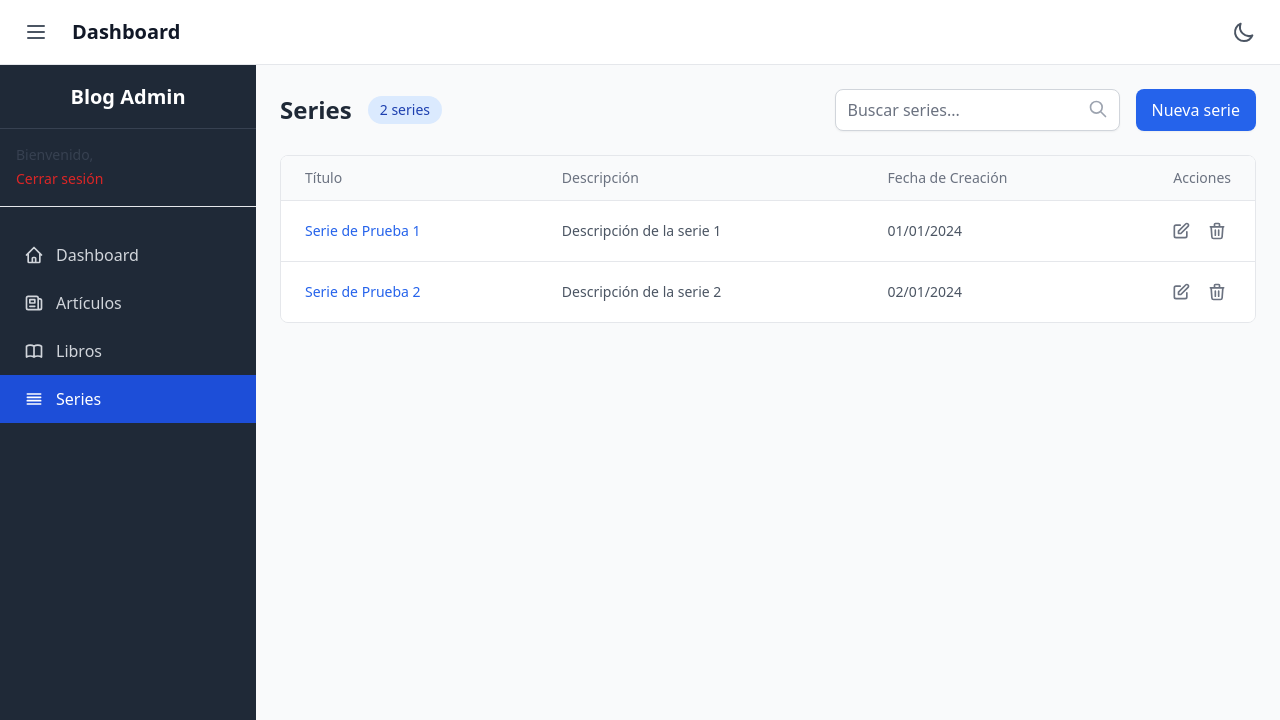
Scenario: Gestión de Series › puede eliminar una serie
Click the button named "Eliminar" in the row of "Serie de Prueba 1" at (1217, 231), box [1203, 217, 1231, 245]
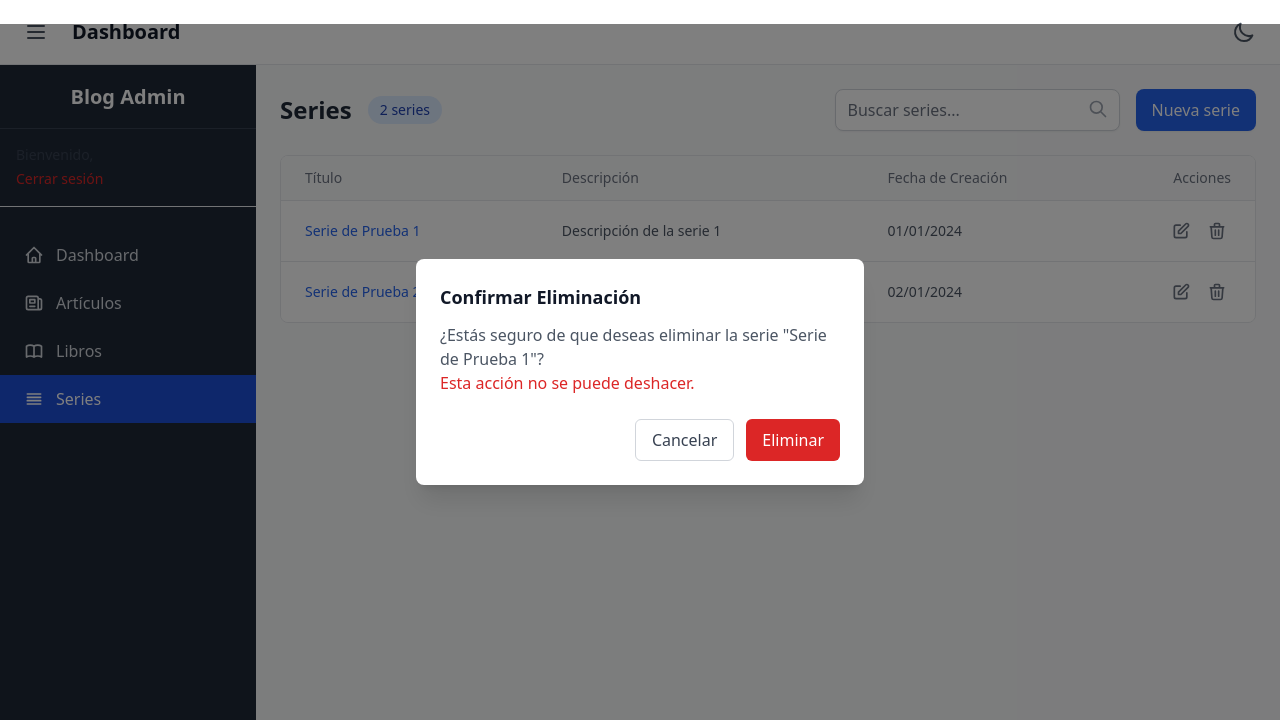
Click the button "Eliminar" at (793, 440), box [746, 419, 840, 461]
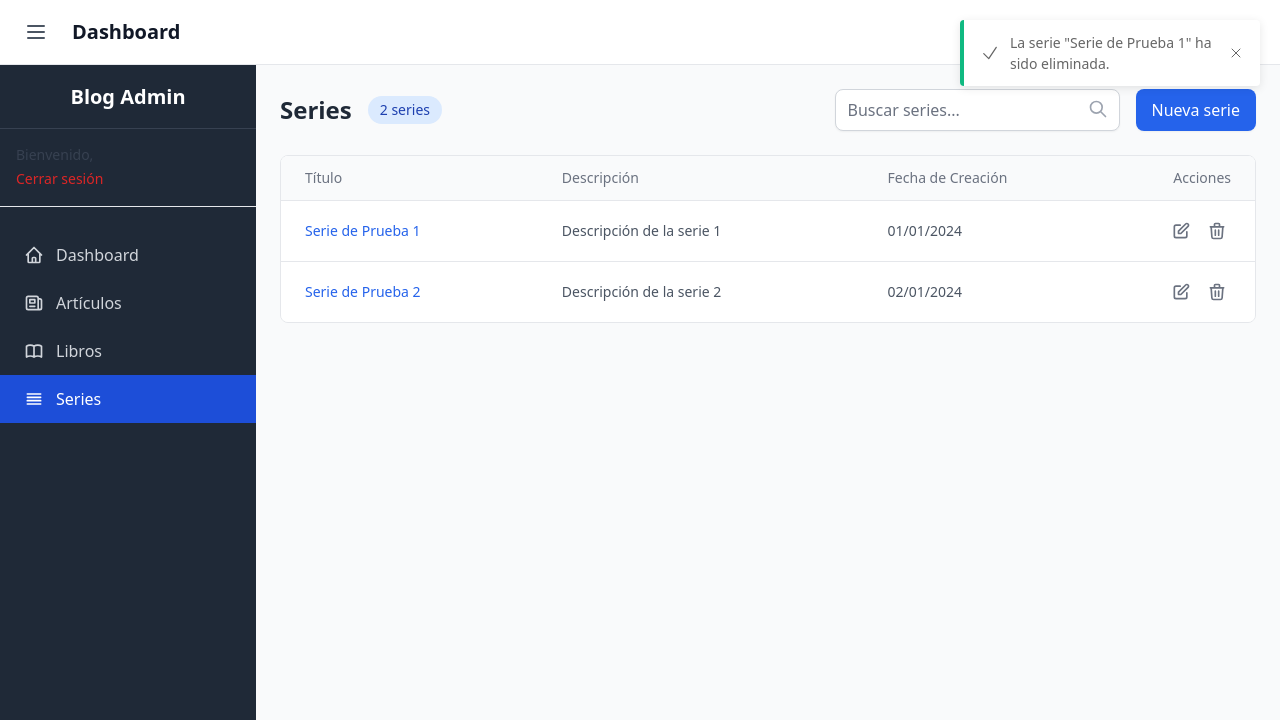
Now the text "La serie \"Serie de Prueba 1\" ha sido eliminada." is shown, box [1010, 32, 1218, 74]
